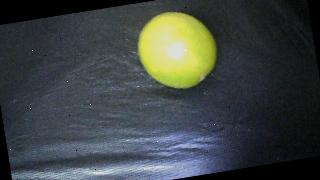LOCAL: (133, 5, 222, 94)
